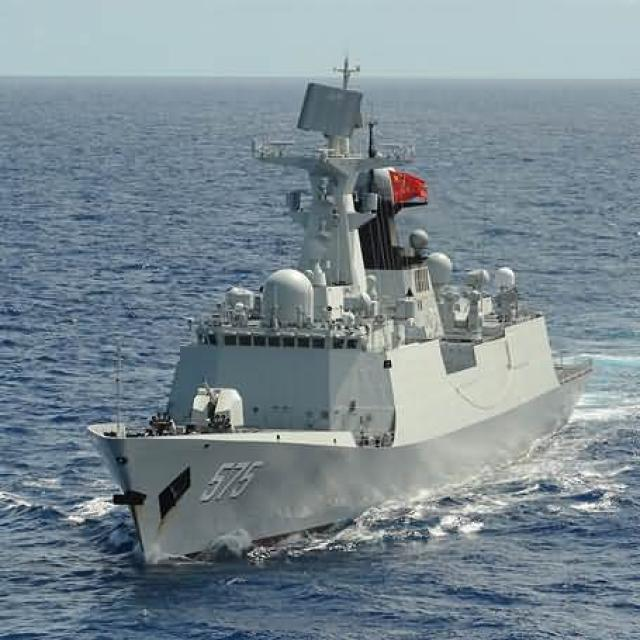navalvessels: (88, 62, 579, 560)
